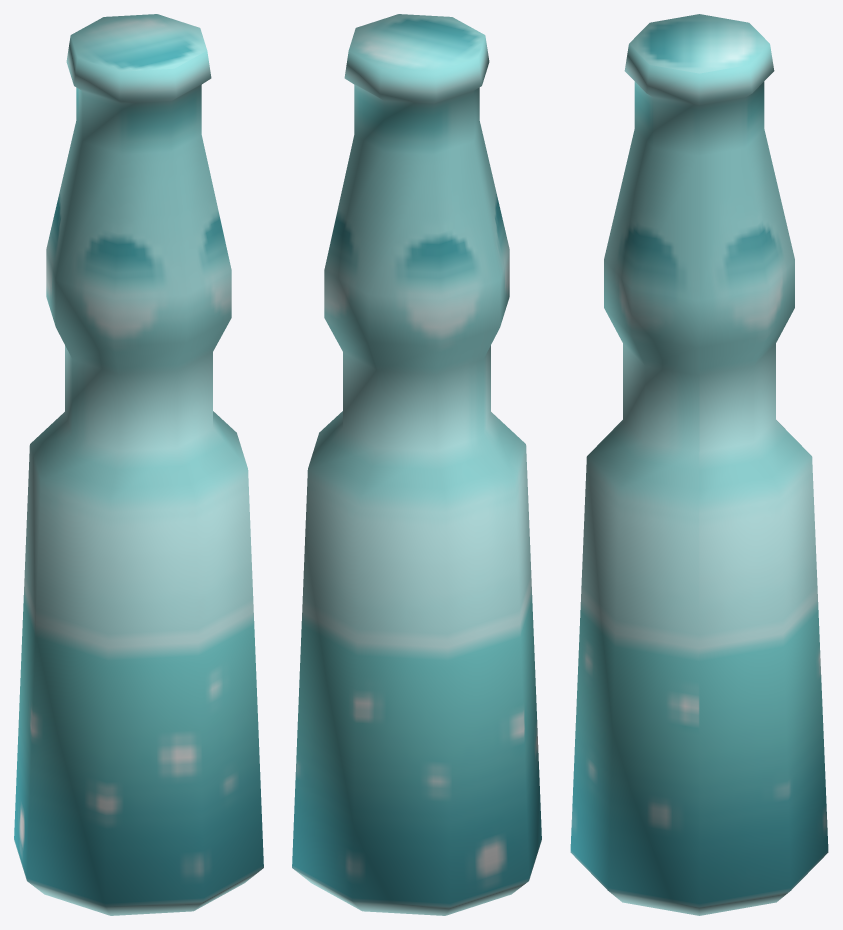
File: lemonade.fbx
3 renders of one model, left to right at view 1: azimuth 30°, elevation 25°; view 2: azimuth 150°, elevation 25°; view 3: azimuth 270°, elevation 25°, orthographic.
Visible parts, largest first — view 1: lemonade; view 2: lemonade; view 3: lemonade.
Boxes of the visible parts, bbox=[...] form: lemonade: bbox=[14, 14, 263, 915]; lemonade: bbox=[292, 14, 541, 915]; lemonade: bbox=[570, 14, 828, 915].
Bounding box in the file's own units: 11.98 × 42.33 × 11.98.
